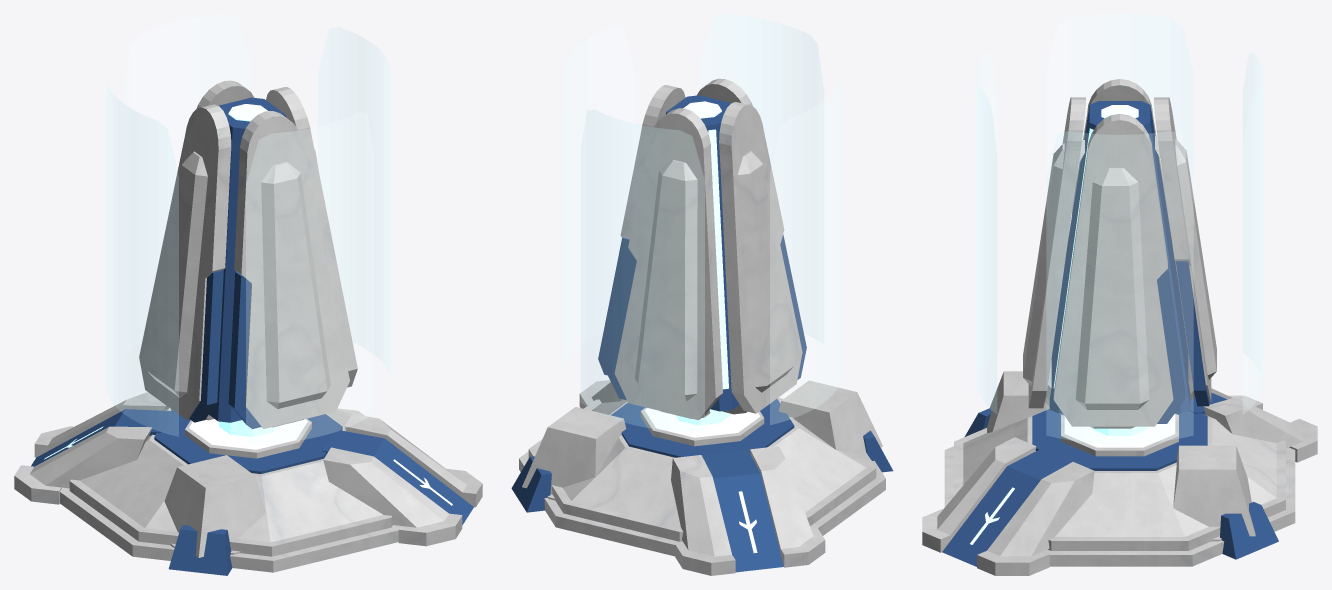
Rendered from deflecteur-meshy.glb.
The picture shows the model from 3 angles, left to right: view 1: azimuth 30°, elevation 25°; view 2: azimuth 150°, elevation 25°; view 3: azimuth 270°, elevation 25°; orthographic projection. The views are drawn at different scales.
Parts seen in each view (by area): view 1: float_fut, base, fx_voile_0, fx_voile_3, fx_voile_1, fx_voile_2, fx_halo, fx_cyan_coeur; view 2: float_fut, base, fx_voile_2, fx_voile_3, fx_voile_1, fx_voile_0, fx_cyan_coeur, fx_halo; view 3: base, float_fut, fx_voile_1, fx_voile_3, fx_voile_0, fx_voile_2, fx_halo, fx_cyan_coeur.
Boxes of the visible parts, x1,y1,x2,y2 form: float_fut: (139,80,357,428); base: (14,392,482,575); fx_voile_0: (246,113,373,443); fx_voile_3: (105,84,178,436); fx_voile_1: (318,27,391,378); fx_voile_2: (123,14,250,353); fx_halo: (189,419,307,449); fx_cyan_coeur: (218,104,275,437); float_fut: (598,78,806,420); base: (511,380,893,575); fx_voile_2: (581,110,704,431); fx_voile_3: (770,82,841,424); fx_voile_1: (563,27,634,367); fx_voile_0: (700,14,823,343); fx_cyan_coeur: (676,101,731,425); fx_halo: (644,408,760,437); base: (922,371,1317,575); float_fut: (1023,79,1216,428); fx_voile_1: (1047,131,1192,443); fx_voile_3: (1047,14,1192,191); fx_voile_0: (977,53,996,413); fx_voile_2: (1243,53,1262,413); fx_halo: (1064,414,1175,447); fx_cyan_coeur: (1053,105,1147,435).
Bounding box in the file's own units: 2.6 × 3.03 × 2.6.
5 materials, 1 textured.
